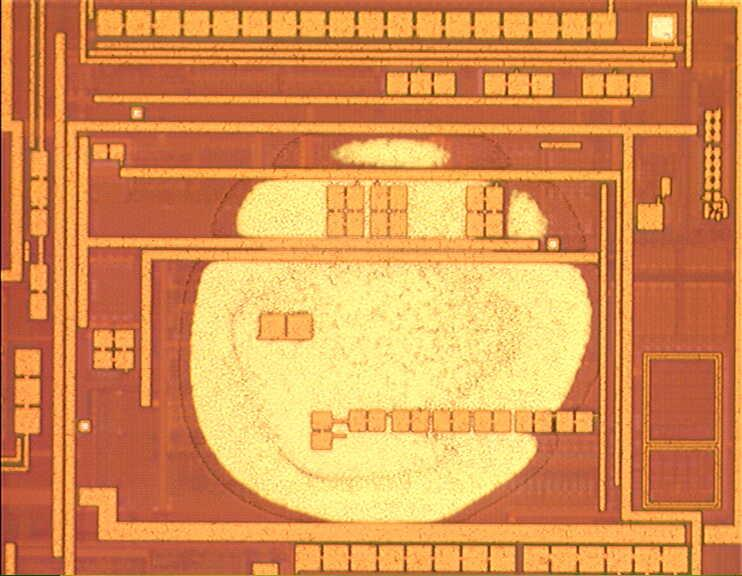BLOCK ETCH: (170, 122, 613, 528)
